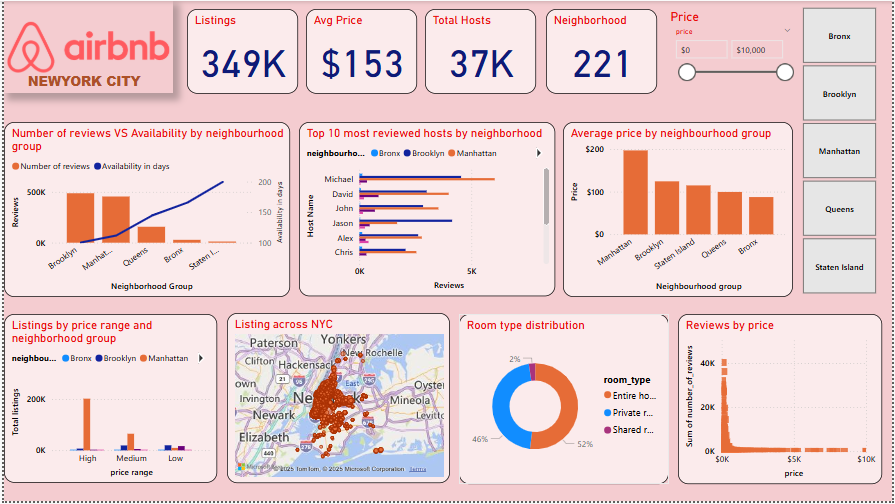

What the dashboard file says about the page in this screenshot:
{"tool":"powerbi","page":{"name":"Dashboard","canvas":[1280,720],"ordinal":0},"visuals":[{"type":"card","title":"Total Hosts","fields":{"Values":["AB_NYC_2019.host_id"]},"box":[606.3,11,160.1,122.2],"z":0},{"type":"card","title":"Avg Price","fields":{"Values":["AB_NYC_2019.price"]},"box":[435.2,11,160.1,122.2],"z":1000},{"type":"slicer","fields":{"Values":["AB_NYC_2019.neighbourhood_group"]},"box":[1125,2.9,155,425],"z":2000},{"type":"lineStackedColumnComboChart","title":"Number of reviews VS  Availability by neighbourhood group","fields":{"Category":["AB_NYC_2019.neighbourhood_group"],"Y":["AB_NYC_2019.number_of_reviews"],"Y2":["AB_NYC_2019.availability_365"]},"box":[0,173.6,412,251.8],"z":3000},{"type":"clusteredBarChart","title":"Top 10 most reviewed hosts by neighborhood","fields":{"Category":["AB_NYC_2019.host_name"],"Y":["AB_NYC_2019.number_of_reviews"],"Series":["AB_NYC_2019.neighbourhood_group"]},"box":[424.2,173.6,369.2,250.6],"z":4000},{"type":"donutChart","title":"Room type distribution","fields":{"Category":["AB_NYC_2019.room_type"],"Y":["AB_NYC_2019.room_type"]},"box":[655.2,450.7,302.4,244.8],"z":5000},{"type":"card","title":"Listings","fields":{"Values":["AB_NYC_2019.Total listings"]},"box":[264,11,160.1,122.2],"z":6000},{"type":"card","title":"Neighborhood","fields":{"Values":["AB_NYC_2019.neighbourhood"]},"box":[781.1,11,160.1,122.2],"z":7000},{"type":"slicer","title":"Price","fields":{"Values":["AB_NYC_2019.price"]},"box":[954.7,11,190.7,122.2],"z":8000},{"type":"columnChart","title":"Average price by neighbourhood group","fields":{"Category":["AB_NYC_2019.neighbourhood_group"],"Y":["AB_NYC_2019.price"]},"box":[804.3,173.6,331.3,251.8],"z":9000},{"type":"clusteredColumnChart","title":"Listings by price range and neighborhood group","fields":{"Category":["AB_NYC_2019.price range"],"Series":["AB_NYC_2019.neighbourhood_group"],"Y":["AB_NYC_2019.Total listings"]},"box":[0,450.7,306.7,243.4],"z":10000},{"type":"image","box":[0,0,243.3,133.2],"z":11000},{"type":"map","title":"Listing across NYC","fields":{"Y":["AB_NYC_2019.latitude"],"X":["AB_NYC_2019.longitude"],"Size":["AB_NYC_2019.Total listings"]},"box":[321.1,449.3,321.1,244.8],"z":12000},{"type":"scatterChart","title":"Reviews by price","fields":{"Y":["AB_NYC_2019.number_of_reviews"],"X":["AB_NYC_2019.price"]},"box":[970.6,450.7,293.8,244.8],"z":13000},{"type":"textbox","title":"NEWYORK CITY","box":[0,101.5,231,31.8],"z":14000}]}

Visuals, with their boxes in screenshot pixels (x1, y1, x2, y2), scaled from the page's 1280x720 canvas onto the 895x504 screenshot:
"Total Hosts" card: <bbox>424, 8, 536, 93</bbox>
"Avg Price" card: <bbox>304, 8, 416, 93</bbox>
slicer - AB_NYC_2019.neighbourhood_group: <bbox>787, 2, 894, 300</bbox>
"Number of reviews VS  Availability by neighbourhood group" lineStackedColumnComboChart: <bbox>0, 122, 288, 298</bbox>
"Top 10 most reviewed hosts by neighborhood" clusteredBarChart: <bbox>297, 122, 555, 297</bbox>
"Room type distribution" donutChart: <bbox>458, 315, 670, 487</bbox>
"Listings" card: <bbox>185, 8, 297, 93</bbox>
"Neighborhood" card: <bbox>546, 8, 658, 93</bbox>
"Price" slicer: <bbox>668, 8, 801, 93</bbox>
"Average price by neighbourhood group" columnChart: <bbox>562, 122, 794, 298</bbox>
"Listings by price range and neighborhood group" clusteredColumnChart: <bbox>0, 315, 214, 486</bbox>
image: <bbox>0, 0, 170, 93</bbox>
"Listing across NYC" map: <bbox>225, 315, 449, 486</bbox>
"Reviews by price" scatterChart: <bbox>679, 315, 884, 487</bbox>
"NEWYORK CITY" textbox: <bbox>0, 71, 162, 93</bbox>
